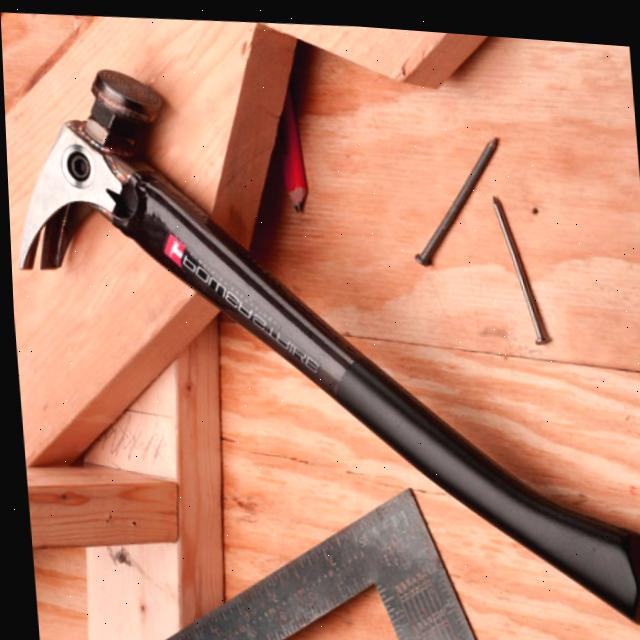hammer: (1, 34, 640, 640)
